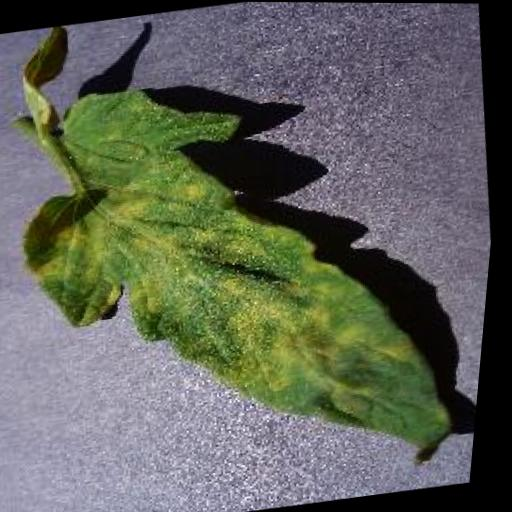Leaf Mold: (0, 44, 494, 512)
